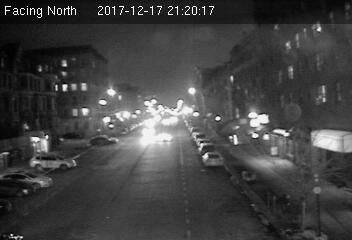car: (203, 152, 222, 165)
